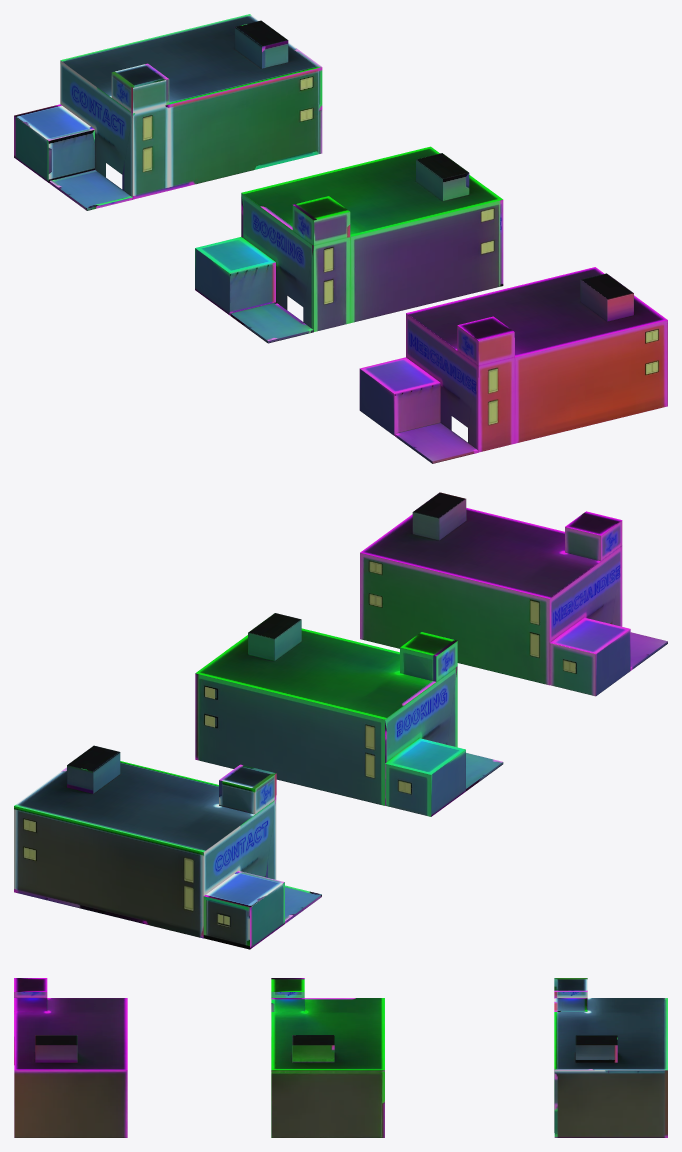
The model's file is Hostel456-transformed.glb.
3 renders of one model, top to bottom at view 1: azimuth 30°, elevation 25°; view 2: azimuth 150°, elevation 25°; view 3: azimuth 270°, elevation 25°, orthographic. The views are drawn at different scales.
Visible parts, largest first — view 1: Cube.173, Cube.161, Cube.499; view 2: Cube.161, Cube.173, Cube.499; view 3: Cube.161, Cube.173, Cube.499.
Part boxes in pixels (x1,y1,x2,y2): Cube.173: (195, 146, 503, 343); Cube.161: (14, 14, 322, 210); Cube.499: (359, 267, 667, 463); Cube.161: (14, 745, 321, 949); Cube.173: (195, 613, 503, 816); Cube.499: (360, 492, 667, 696); Cube.161: (554, 978, 667, 1137); Cube.173: (271, 978, 384, 1137); Cube.499: (14, 978, 127, 1137).
Bounding box in the file's own units: 583 × 265 × 1791.
1 material, 1 textured.
